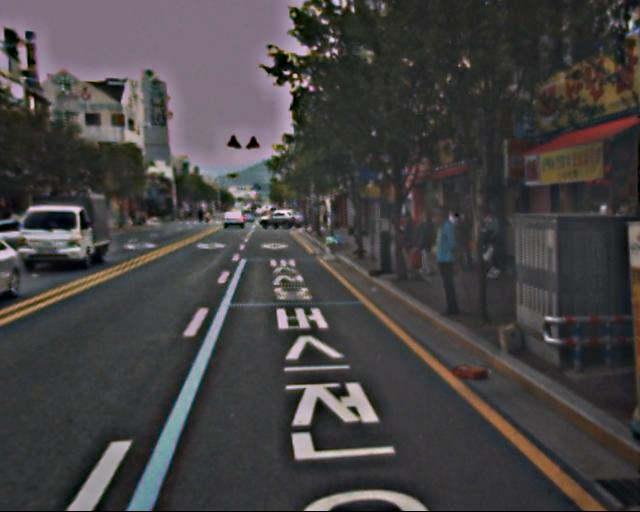person: (425, 207, 471, 319), (479, 209, 506, 276), (411, 212, 437, 275), (452, 210, 477, 271), (394, 216, 412, 259)
